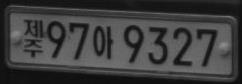2: (172, 26, 192, 66)
3: (147, 25, 168, 64)
7: (195, 27, 218, 67), (68, 21, 90, 60)
9: (122, 24, 144, 63), (45, 19, 66, 58)
아: (92, 25, 114, 58)
제주_V: (22, 19, 44, 58)
